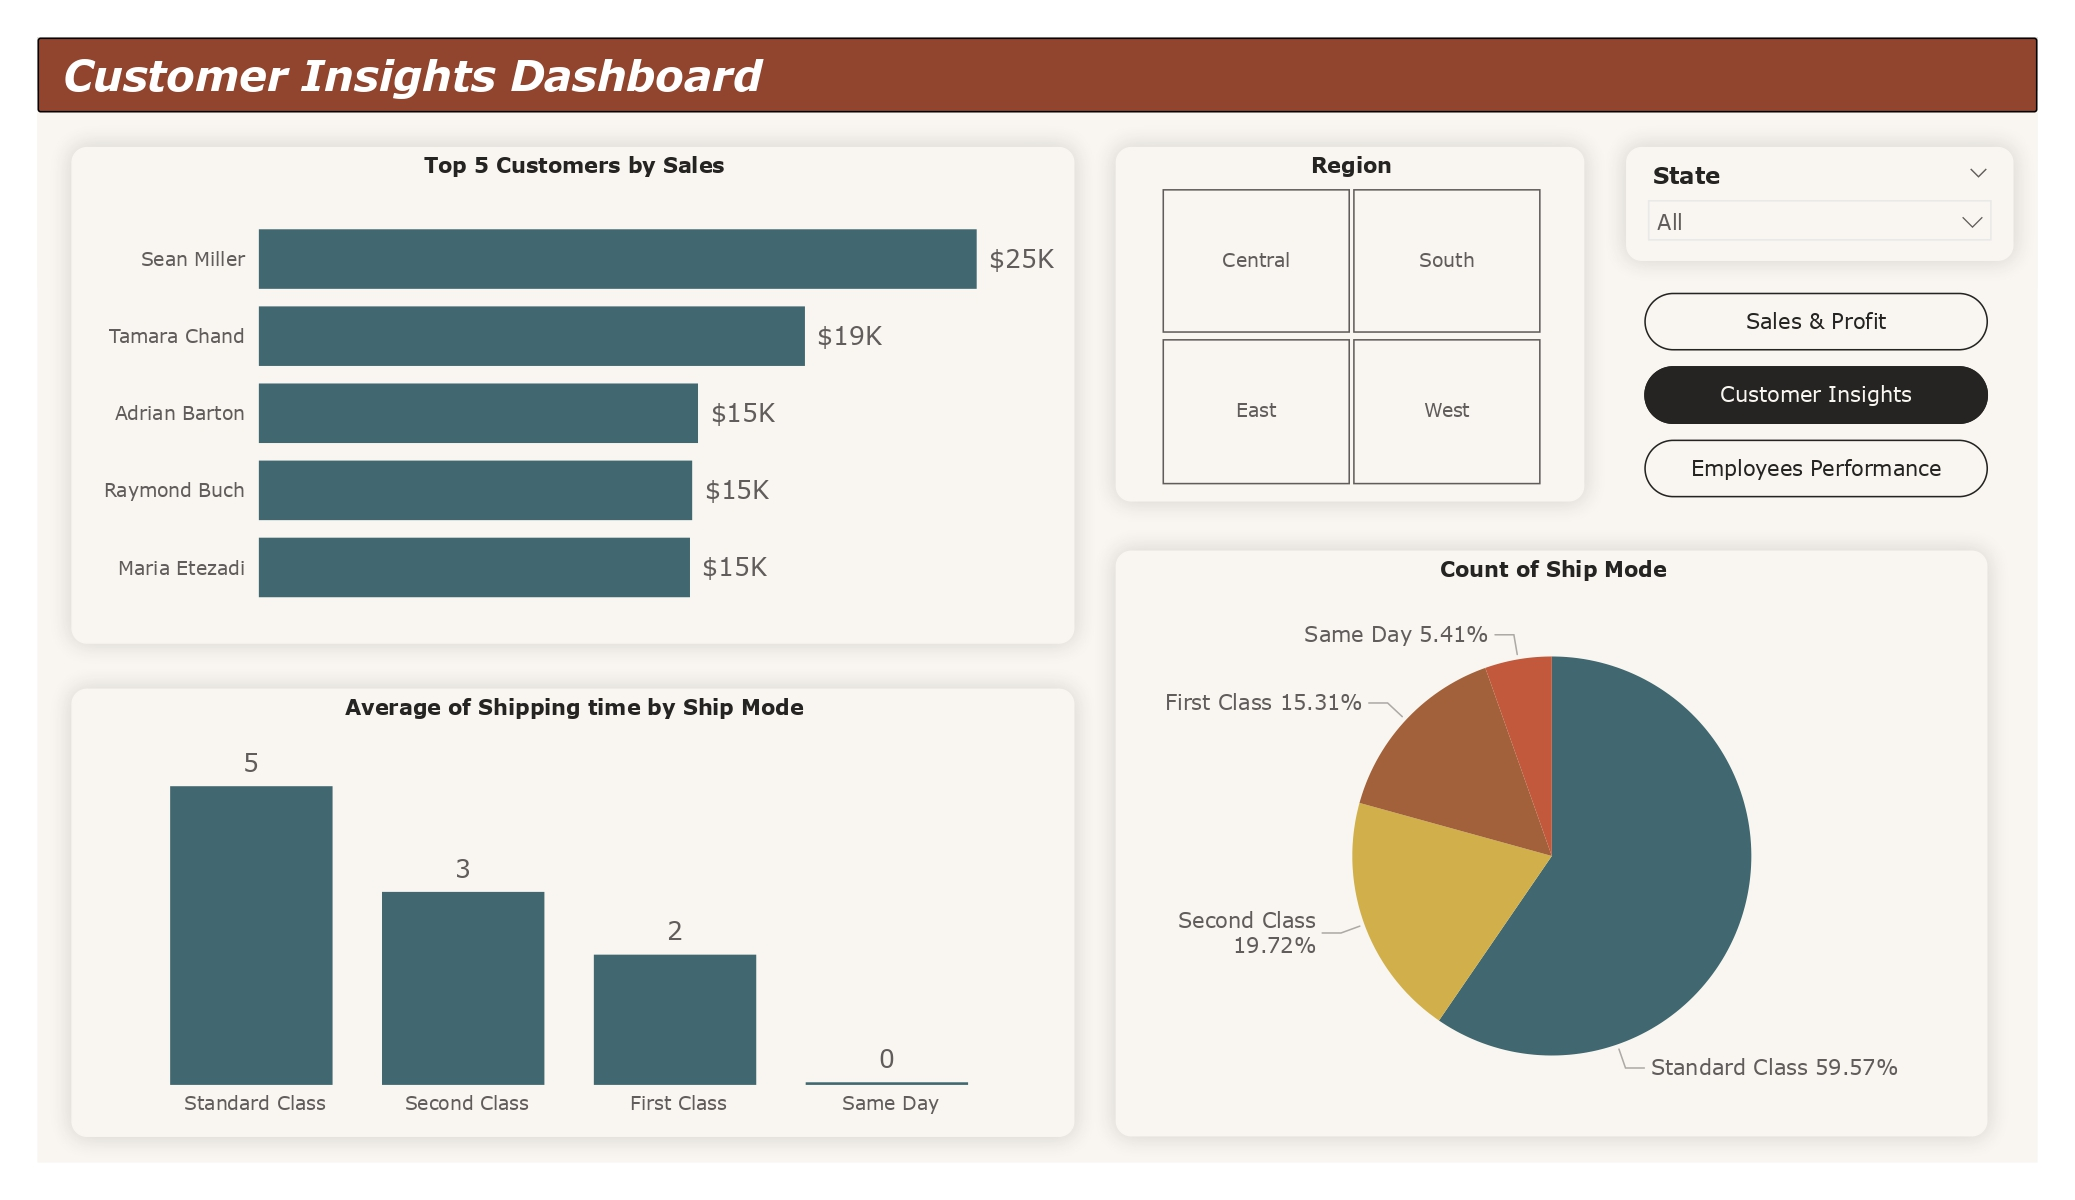

The dashboard page shown, as its layout file describes it:
{"tool":"powerbi","page":{"name":"Customer Insights","canvas":[1280,720],"ordinal":1},"visuals":[{"type":"clusteredBarChart","title":"Top 5 Customers by Sales","fields":{"Category":["Orders.Customer Name"],"Y":["Orders.Sales"]},"box":[21.7,70,641.7,318.3],"z":0},{"type":"pieChart","title":"Count of Ship Mode","fields":{"Category":["Orders.Ship Mode"],"Y":["Orders.Ship Mode"]},"box":[690,328.3,558.3,375],"z":1000},{"type":"columnChart","fields":{"Category":["Orders.Ship Mode"],"Y":["Orders.Shipping time"]},"box":[21.7,416.7,641.7,286.7],"z":2000},{"type":"slicer","title":"Region","fields":{"Values":["People.Region"]},"box":[690,70,300,226.7],"z":3000},{"type":"textbox","box":[0,0,1280,48.3],"z":4000},{"type":"pageNavigator","box":[1028.3,163.3,220,133.3],"z":5000},{"type":"slicer","fields":{"Values":["Orders.State"]},"box":[1016.7,70,248.3,73.3],"z":6000}]}

Visuals, with their boxes on the page's 1280x720 design canvas (x1, y1, x2, y2). These are canvas units, not pixel positions in the 2075x1200 screenshot, which may show the page scaled, cropped or inside an application window:
"Top 5 Customers by Sales" clusteredBarChart: pyautogui.locateOnScreen(22, 70, 663, 388)
"Count of Ship Mode" pieChart: pyautogui.locateOnScreen(690, 328, 1248, 703)
columnChart - Orders.Ship Mode x Orders.Shipping time: pyautogui.locateOnScreen(22, 417, 663, 703)
"Region" slicer: pyautogui.locateOnScreen(690, 70, 990, 297)
textbox: pyautogui.locateOnScreen(0, 0, 1280, 48)
pageNavigator: pyautogui.locateOnScreen(1028, 163, 1248, 297)
slicer - Orders.State: pyautogui.locateOnScreen(1017, 70, 1265, 143)
